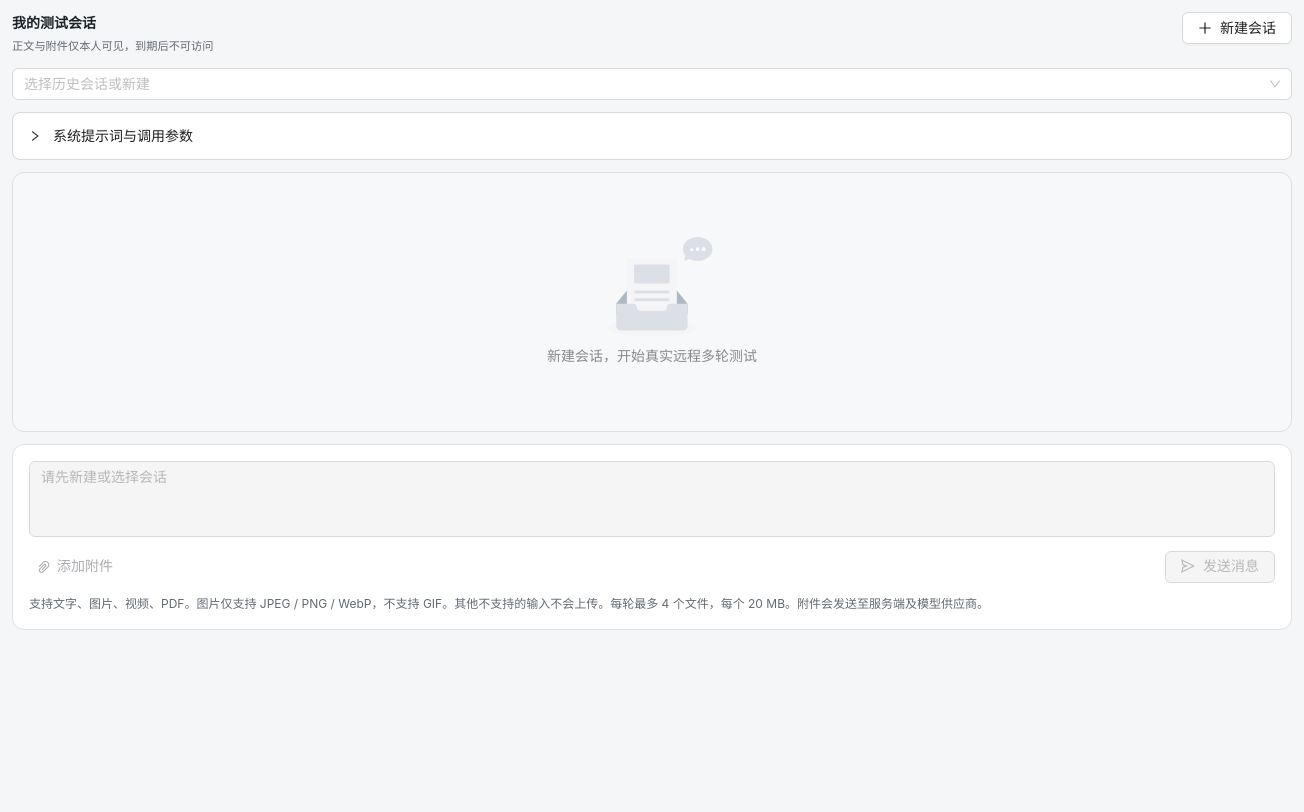
Test: remote invocation lifecycle › treats an explicitly empty server active id as authoritative over the local hint
Press the mouse on the dropdown labelled "选择历史会话或新建" at (87, 84), box [24,75,150,92]
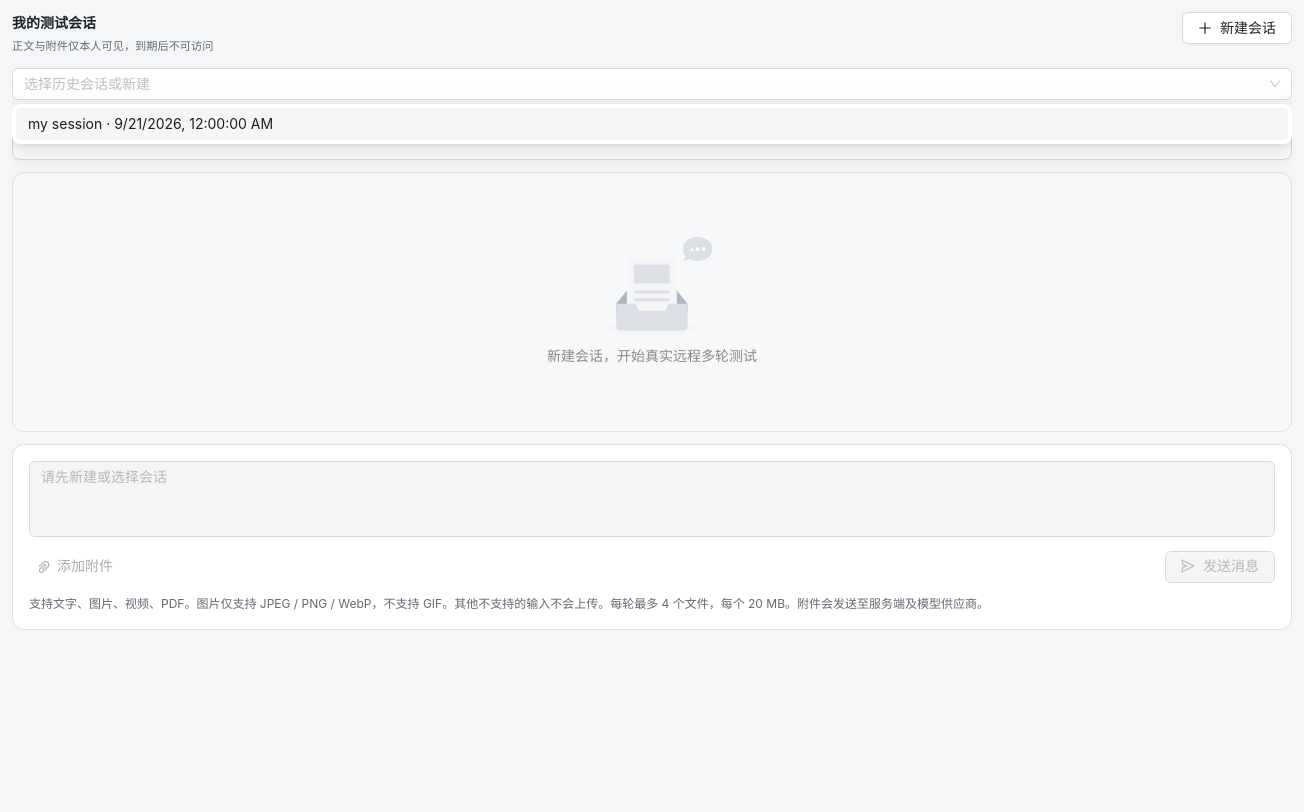
Click the element showing "my session · 9/21/2026, 12:00:00 AM" at (652, 124), box [16,108,1288,140]
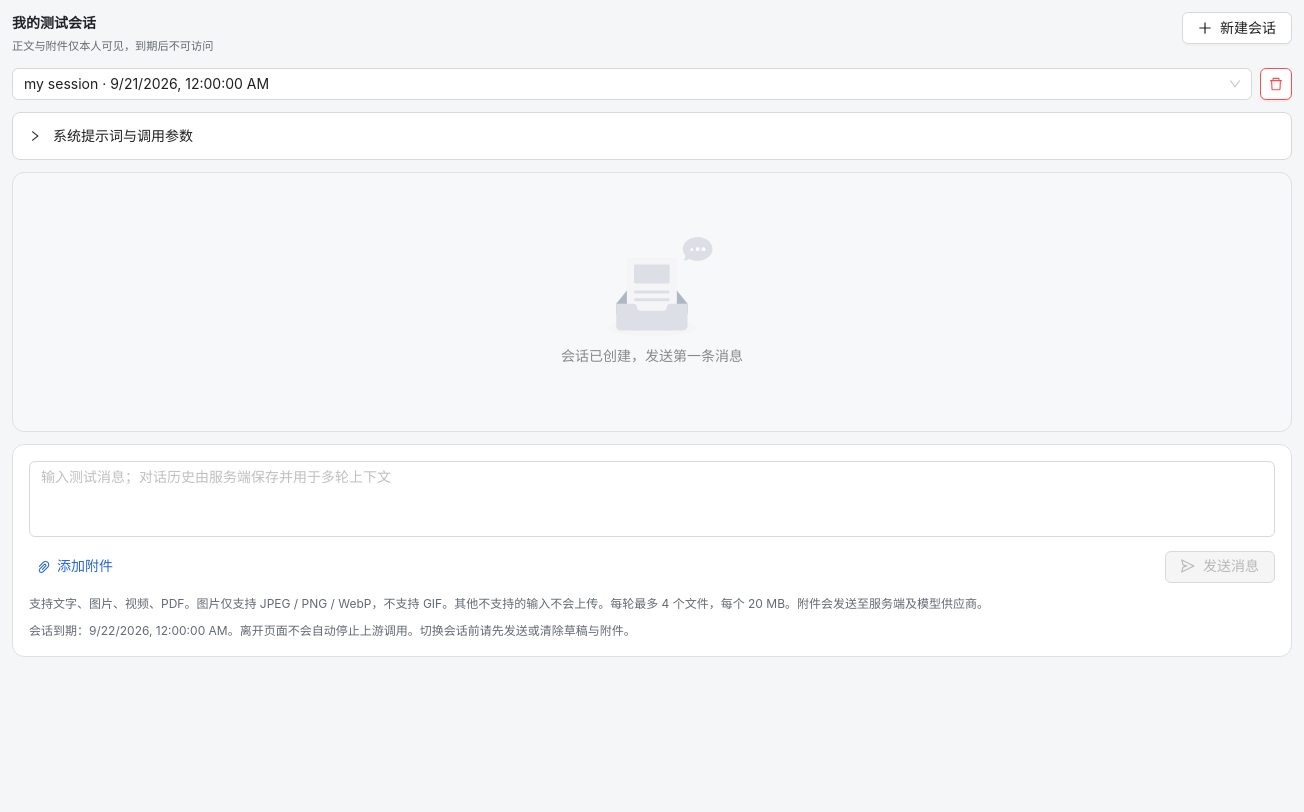
Now the button named "删除当前会话" is enabled, box [1260,68,1292,100]
